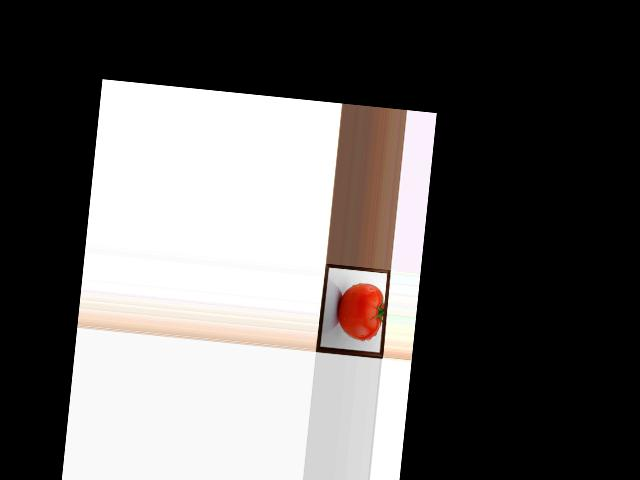tomato: (335, 281, 386, 342)
